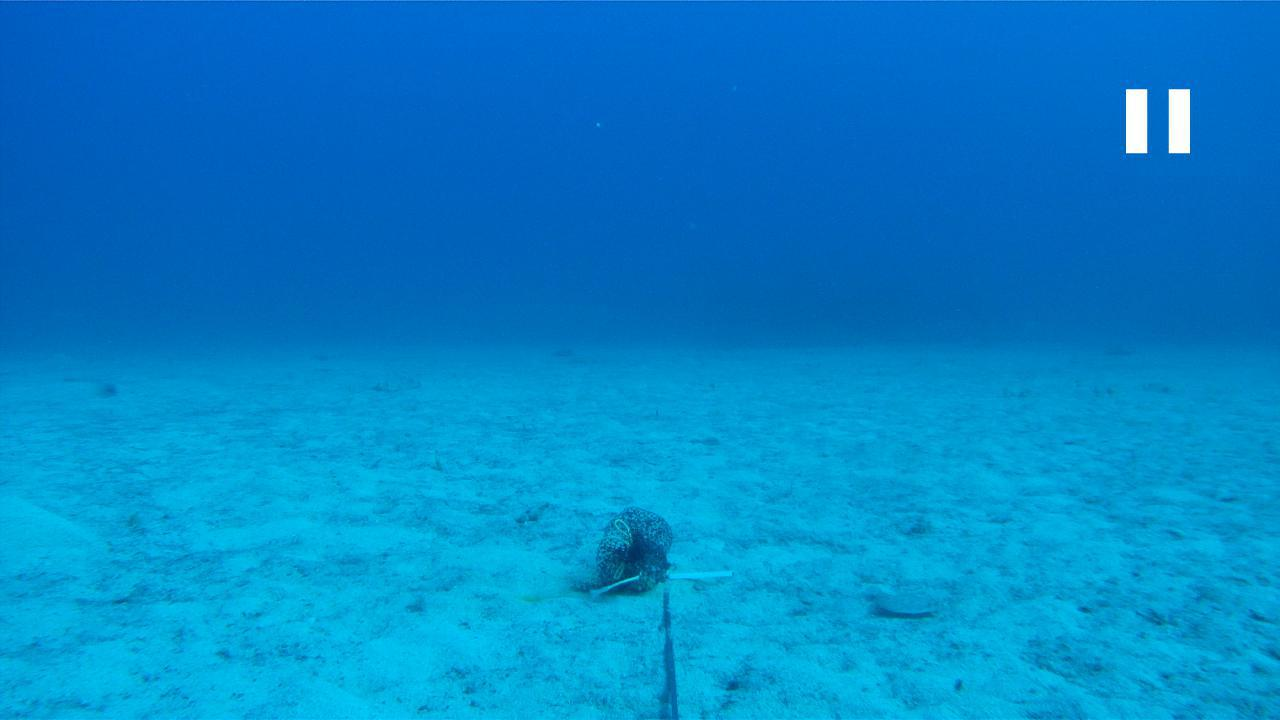bothus: (861, 588, 944, 620)
